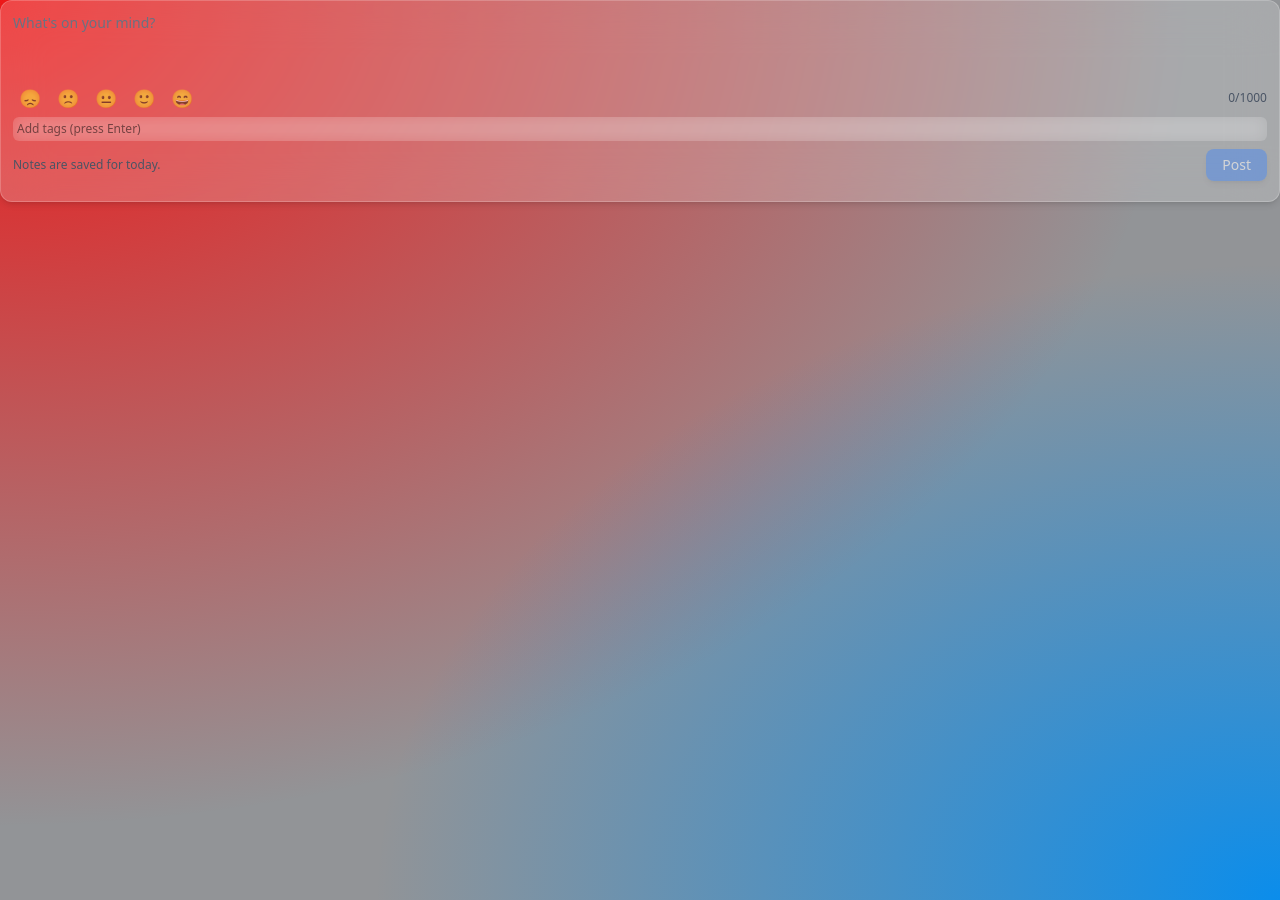
JournalComposer › counts characters and caps the note at 1000
Check: the text "0/1000" is shown, box x1=1228 y1=90 x2=1267 y2=106
Type "hello" into the text box named "Note" at (640, 43), box x1=13 y1=13 x2=1267 y2=73
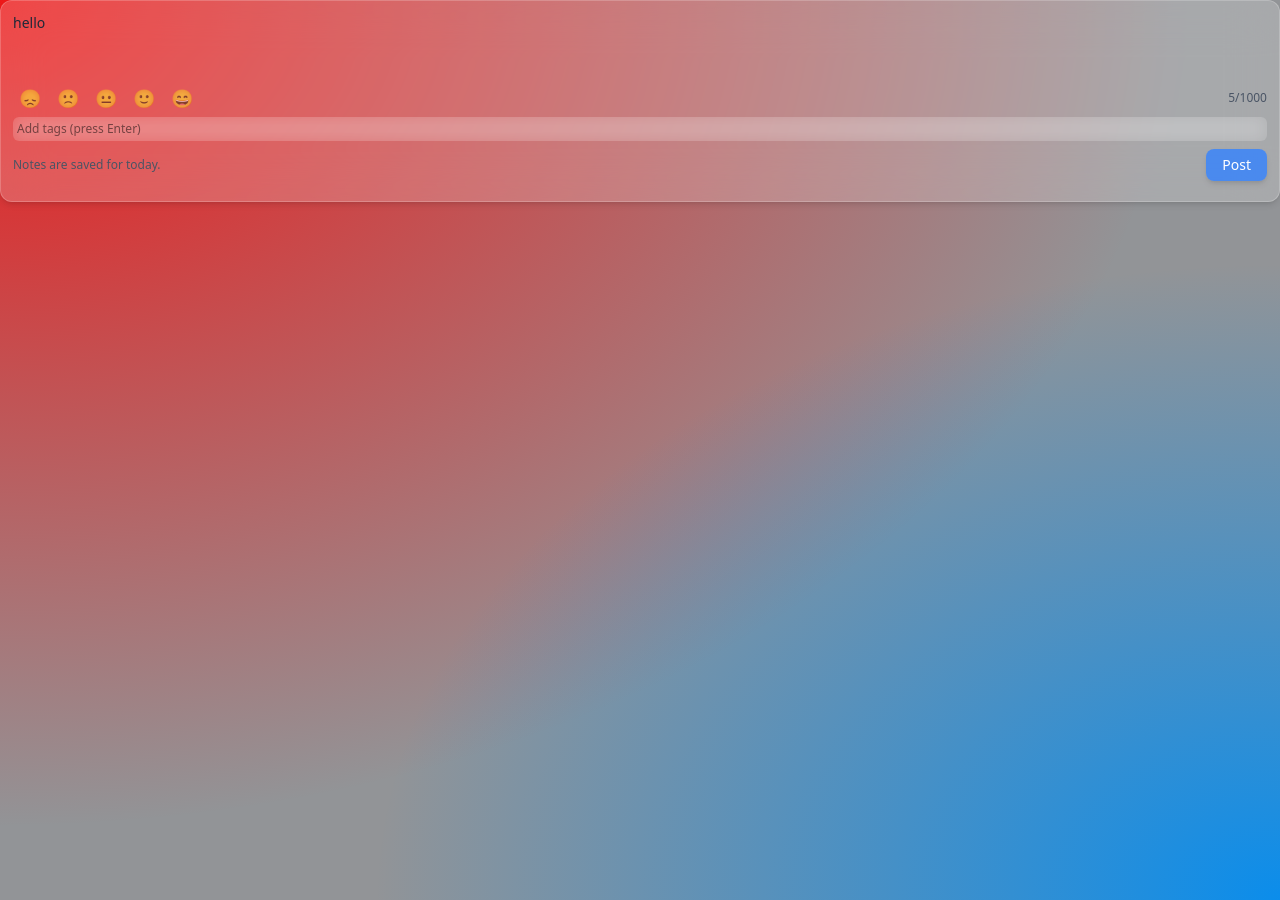
Check: the text "5/1000" is shown, box x1=1228 y1=90 x2=1267 y2=106
